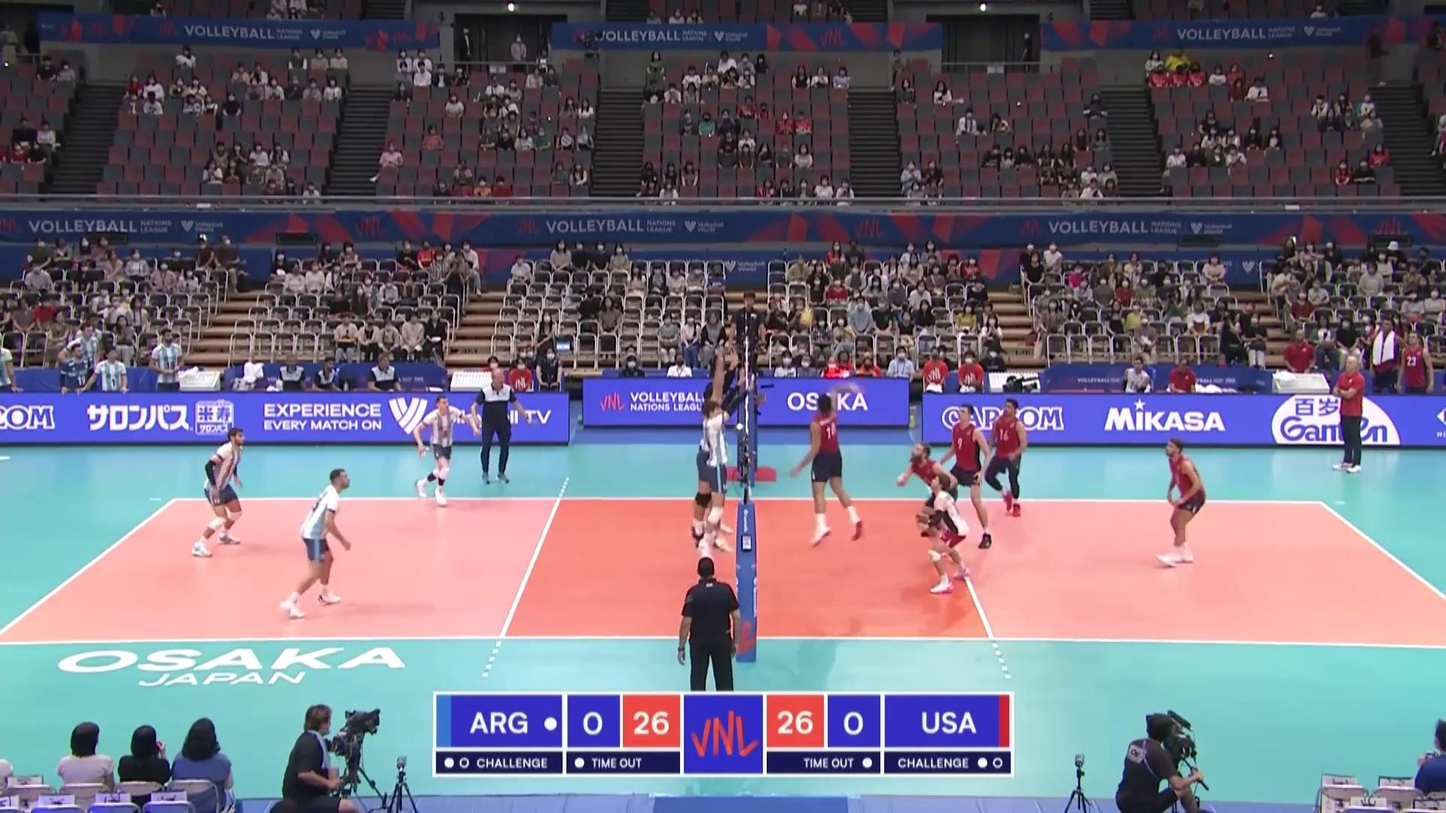player: (792, 391, 864, 544), (280, 468, 350, 620), (920, 405, 992, 547), (895, 442, 959, 554), (192, 429, 247, 558), (1157, 438, 1208, 571), (694, 383, 734, 544), (919, 473, 972, 592), (699, 399, 737, 560), (413, 394, 465, 508), (986, 397, 1029, 517)
refree: (676, 560, 739, 693), (730, 290, 767, 393)
